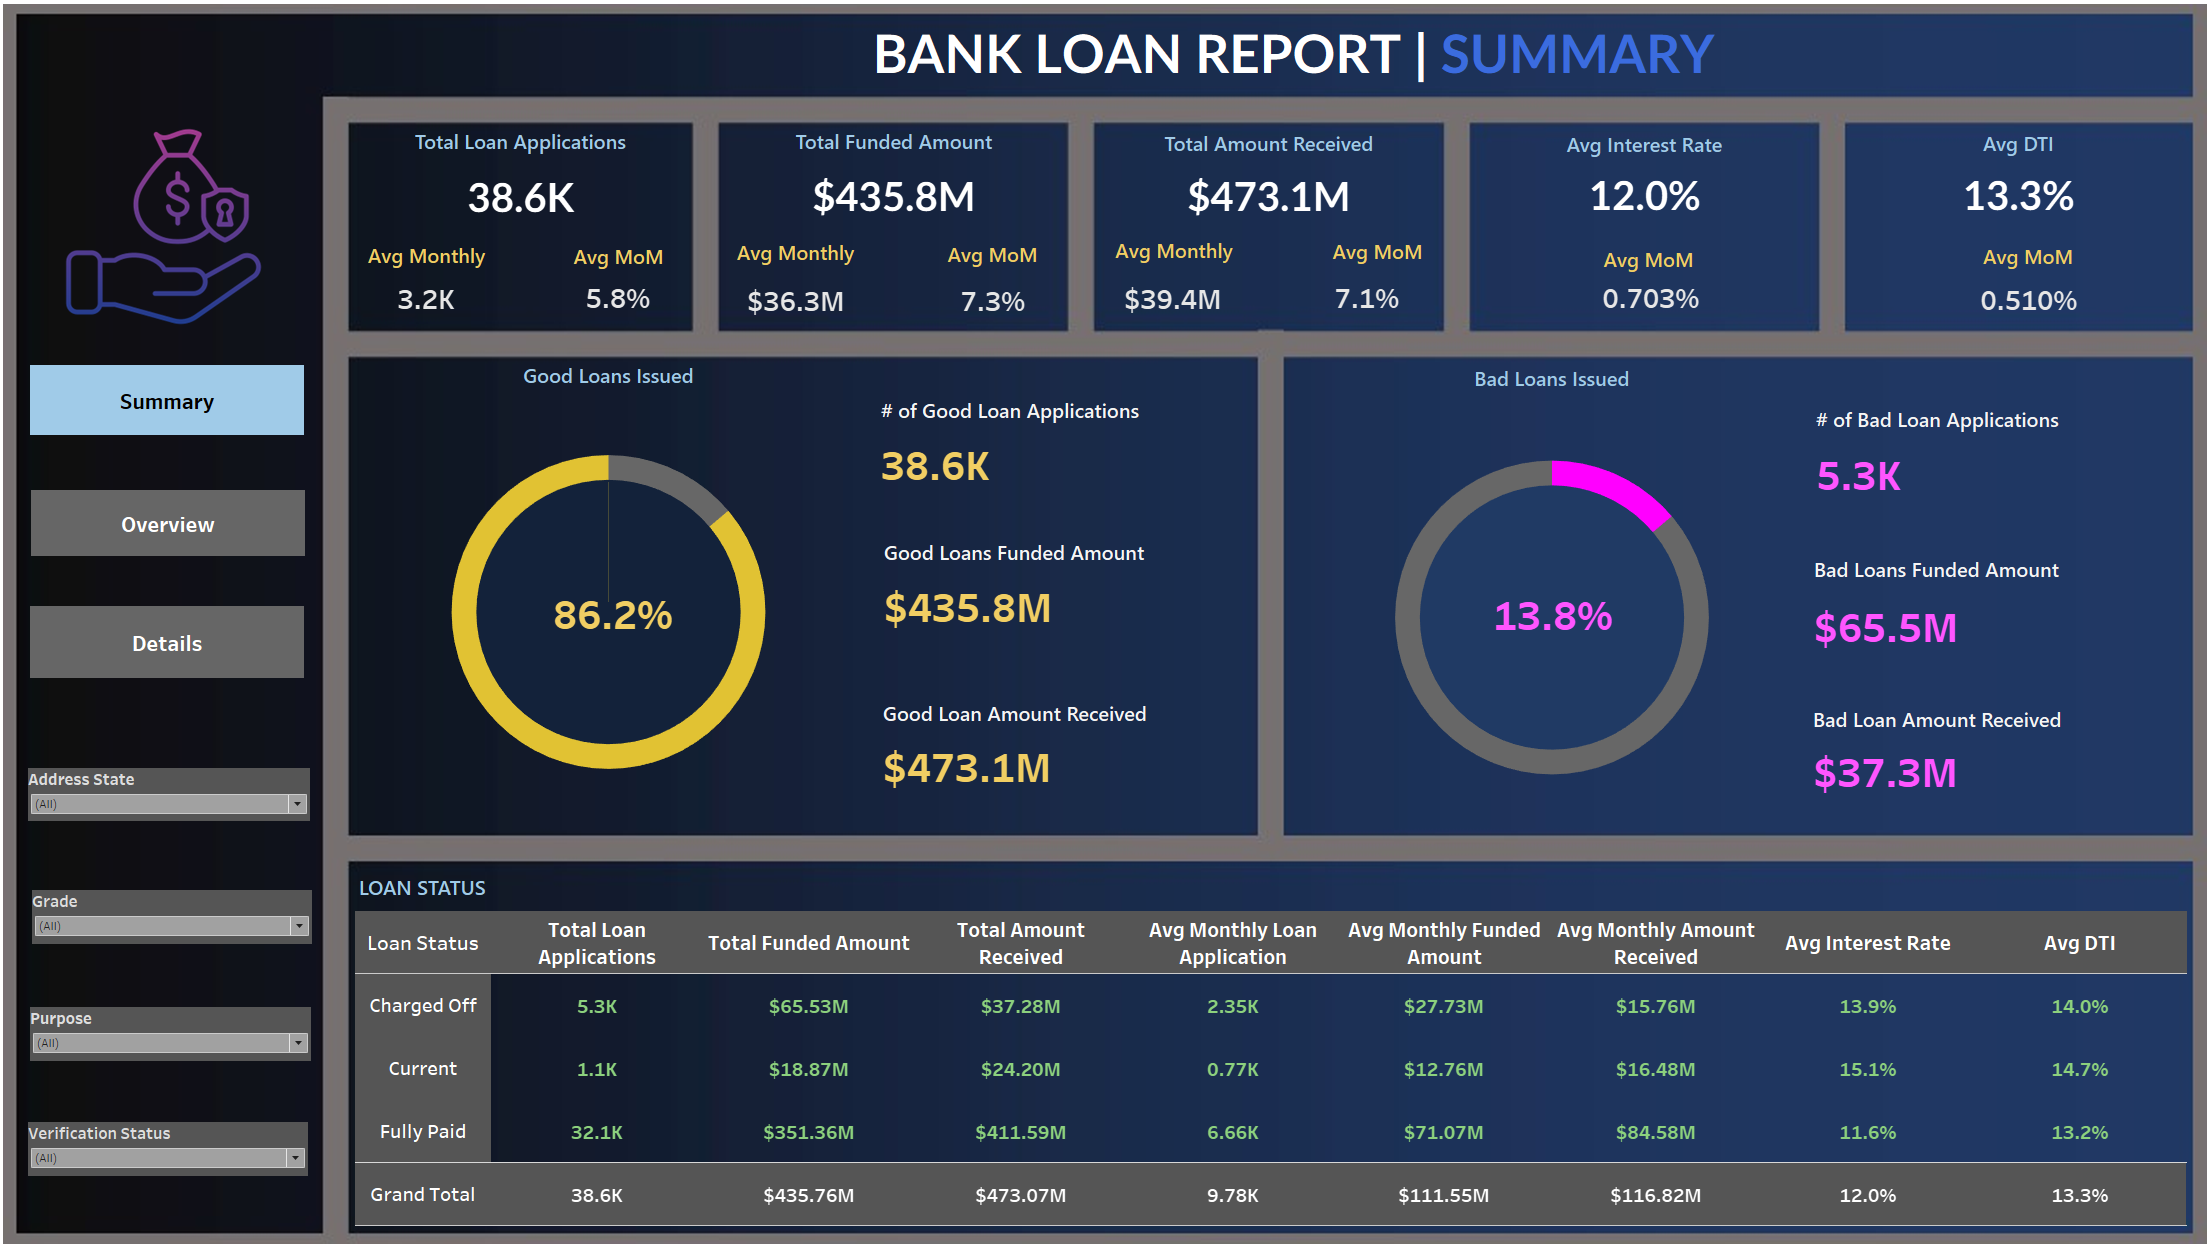

The dashboard page shown, as its layout file describes it:
{"tool":"tableau","page":{"name":"Summary","canvas":[2349,1264],"ordinal":2},"visuals":[{"type":"image","param":"C:/Users/AAA/Documents/Coding/SQL/Projects/Bank Loan Project/src/img/Dashboard/T","box":[8,8,2333,1248]},{"type":"text","box":[934.9,27,920.1,76]},{"type":"image","param":"C:/Users/AAA/Documents/Coding/SQL/Projects/Bank Loan Project/src/img/Dashboard/c","box":[124,131,218,207]},{"type":"worksheet","title":"Total Loan Applications","mark":"Automatic","box":[418,131,343,112]},{"type":"worksheet","title":"Total Funded Amount","mark":"Automatic","box":[789,131,348,109]},{"type":"worksheet","title":"Total Amount Received","mark":"Automatic","box":[1166,133,344,106]},{"type":"worksheet","title":"Avg DTI","mark":"Automatic","box":[1916,133,343,103]},{"type":"worksheet","title":"Avg Interest Rate","mark":"Automatic","box":[1543,134,341,101]},{"type":"text","box":[1178,243,130,30]},{"type":"text","box":[1382,244,129,30]},{"type":"text","box":[800,245,129,30]},{"type":"text","box":[997.5,247,129.3,30]},{"type":"text","box":[431,248,129,30]},{"type":"text","box":[623,249,129,30]},{"type":"text","box":[2032,249,130,30]},{"type":"text","box":[1653,252,129,30]},{"type":"worksheet","title":"Avg MoM Loan Applications","mark":"Automatic","cols":["issue_date"],"box":[613,271,148,68]},{"type":"worksheet","title":"Avg MoM Amount Received","mark":"Automatic","cols":["issue_date"],"box":[1359,273,153,64]},{"type":"worksheet","title":"MoM Interest Rate","mark":"Automatic","cols":["issue_date"],"box":[1641,274,158,62]},{"type":"worksheet","title":"Avg Monthly Loan Applications","mark":"Automatic","box":[420,275,150,62]},{"type":"worksheet","title":"Avg Monthly Amount Received","mark":"Automatic","box":[1165,275,153,62]},{"type":"worksheet","title":"Avg Monthly Funded Loan","mark":"Automatic","box":[790,276,150,63]},{"type":"worksheet","title":"Avg MoM Funded Loan","mark":"Automatic","cols":["issue_date"],"box":[989,276,146.3,63]},{"type":"worksheet","title":"MoM DTI","mark":"Automatic","cols":["issue_date"],"box":[2032,276,132,62]},{"type":"worksheet","title":"Good Loans Issued","mark":"Pie","rows":["Calculation_3651293419421073420","Calculation_3651293419421192207"],"box":[419,365,517,468]},{"type":"worksheet","title":"Bad Loans Issued","mark":"Pie","rows":["Calculation_3651293419421073420","Calculation_3651293419421192207"],"box":[1365,368,512,473]},{"type":"dashboard-object","box":[99,373,274,70]},{"type":"worksheet","title":"# of Good Loan Applications","mark":"Automatic","box":[946,400,380,102]},{"type":"worksheet","title":"# of Bad Loan Applications","mark":"Automatic","box":[1881,409,377,103]},{"type":"dashboard-object","box":[100,498,274,66]},{"type":"worksheet","title":"Good Loans Funded Amount","mark":"Automatic","box":[949,542,376,102]},{"type":"worksheet","title":"Bad Loans Funded Amount","mark":"Automatic","box":[1879,559,380,107]},{"type":"worksheet","title":"Good Loans Application %","mark":"Automatic","box":[589,568,185,106]},{"type":"worksheet","title":"Bad Loans Application %","mark":"Automatic","box":[1537,570,169,104]},{"type":"dashboard-object","box":[99,614,274,72]},{"type":"worksheet","title":"Good Loan Amount Received","mark":"Automatic","box":[948,703,380,99]},{"type":"worksheet","title":"Bad Loan Amount Received","mark":"Automatic","box":[1878,709,381,98]},{"type":"filter","title":"Good Loans Issued","param":"[federated.0fsphwt0lwau0m1359zk90dzj1ah].[none:address_state:nk]","box":[97,776,282,53]},{"type":"worksheet","title":"LOAN STATUS","mark":"Automatic","rows":["loan_status"],"box":[424,877,1832,357]},{"type":"filter","title":"Good Loans Issued","param":"[federated.0fsphwt0lwau0m1359zk90dzj1ah].[none:grade:nk]","box":[101,898,280,54]},{"type":"filter","title":"Good Loans Issued","param":"[federated.0fsphwt0lwau0m1359zk90dzj1ah].[none:purpose:nk]","box":[99,1015,281,54]},{"type":"filter","title":"Good Loans Issued","param":"[federated.0fsphwt0lwau0m1359zk90dzj1ah].[none:verification_status:nk]","box":[97,1130,280,54]}]}

Visuals, with their boxes on the page's 2349x1264 design canvas (x1, y1, x2, y2). These are canvas units, not pixel positions in the 2210x1247 screenshot, which may show the page scaled, cropped or inside an application window:
image: 8, 8, 2341, 1256
text: 935, 27, 1855, 103
image: 124, 131, 342, 338
"Total Loan Applications" worksheet: 418, 131, 761, 243
"Total Funded Amount" worksheet: 789, 131, 1137, 240
"Total Amount Received" worksheet: 1166, 133, 1510, 239
"Avg DTI" worksheet: 1916, 133, 2259, 236
"Avg Interest Rate" worksheet: 1543, 134, 1884, 235
text: 1178, 243, 1308, 273
text: 1382, 244, 1511, 274
text: 800, 245, 929, 275
text: 998, 247, 1127, 277
text: 431, 248, 560, 278
text: 623, 249, 752, 279
text: 2032, 249, 2162, 279
text: 1653, 252, 1782, 282
"Avg MoM Loan Applications" worksheet: 613, 271, 761, 339
"Avg MoM Amount Received" worksheet: 1359, 273, 1512, 337
"MoM Interest Rate" worksheet: 1641, 274, 1799, 336
"Avg Monthly Loan Applications" worksheet: 420, 275, 570, 337
"Avg Monthly Amount Received" worksheet: 1165, 275, 1318, 337
"Avg Monthly Funded Loan" worksheet: 790, 276, 940, 339
"Avg MoM Funded Loan" worksheet: 989, 276, 1135, 339
"MoM DTI" worksheet: 2032, 276, 2164, 338
"Good Loans Issued" worksheet (Pie marks): 419, 365, 936, 833
"Bad Loans Issued" worksheet (Pie marks): 1365, 368, 1877, 841
dashboard-object: 99, 373, 373, 443
"# of Good Loan Applications" worksheet: 946, 400, 1326, 502
"# of Bad Loan Applications" worksheet: 1881, 409, 2258, 512
dashboard-object: 100, 498, 374, 564
"Good Loans Funded Amount" worksheet: 949, 542, 1325, 644
"Bad Loans Funded Amount" worksheet: 1879, 559, 2259, 666
"Good Loans Application %" worksheet: 589, 568, 774, 674
"Bad Loans Application %" worksheet: 1537, 570, 1706, 674
dashboard-object: 99, 614, 373, 686
"Good Loan Amount Received" worksheet: 948, 703, 1328, 802
"Bad Loan Amount Received" worksheet: 1878, 709, 2259, 807
"Good Loans Issued" filter: 97, 776, 379, 829
"LOAN STATUS" worksheet: 424, 877, 2256, 1234
"Good Loans Issued" filter: 101, 898, 381, 952
"Good Loans Issued" filter: 99, 1015, 380, 1069
"Good Loans Issued" filter: 97, 1130, 377, 1184
